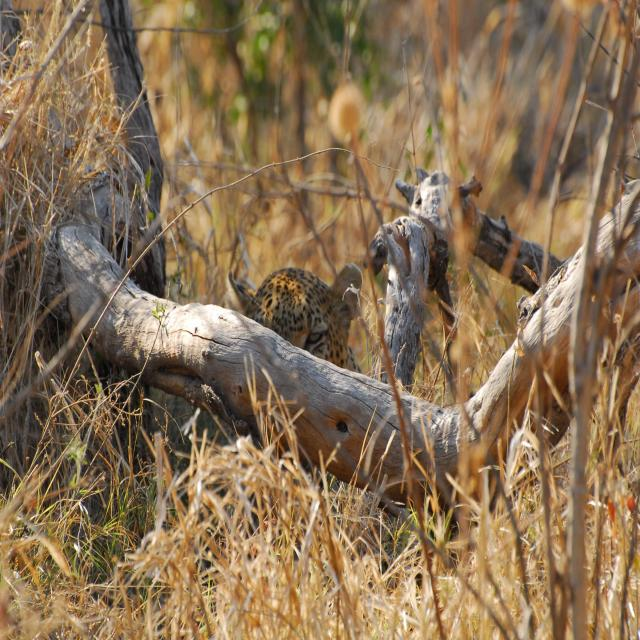Leopard: (223, 263, 359, 376)
